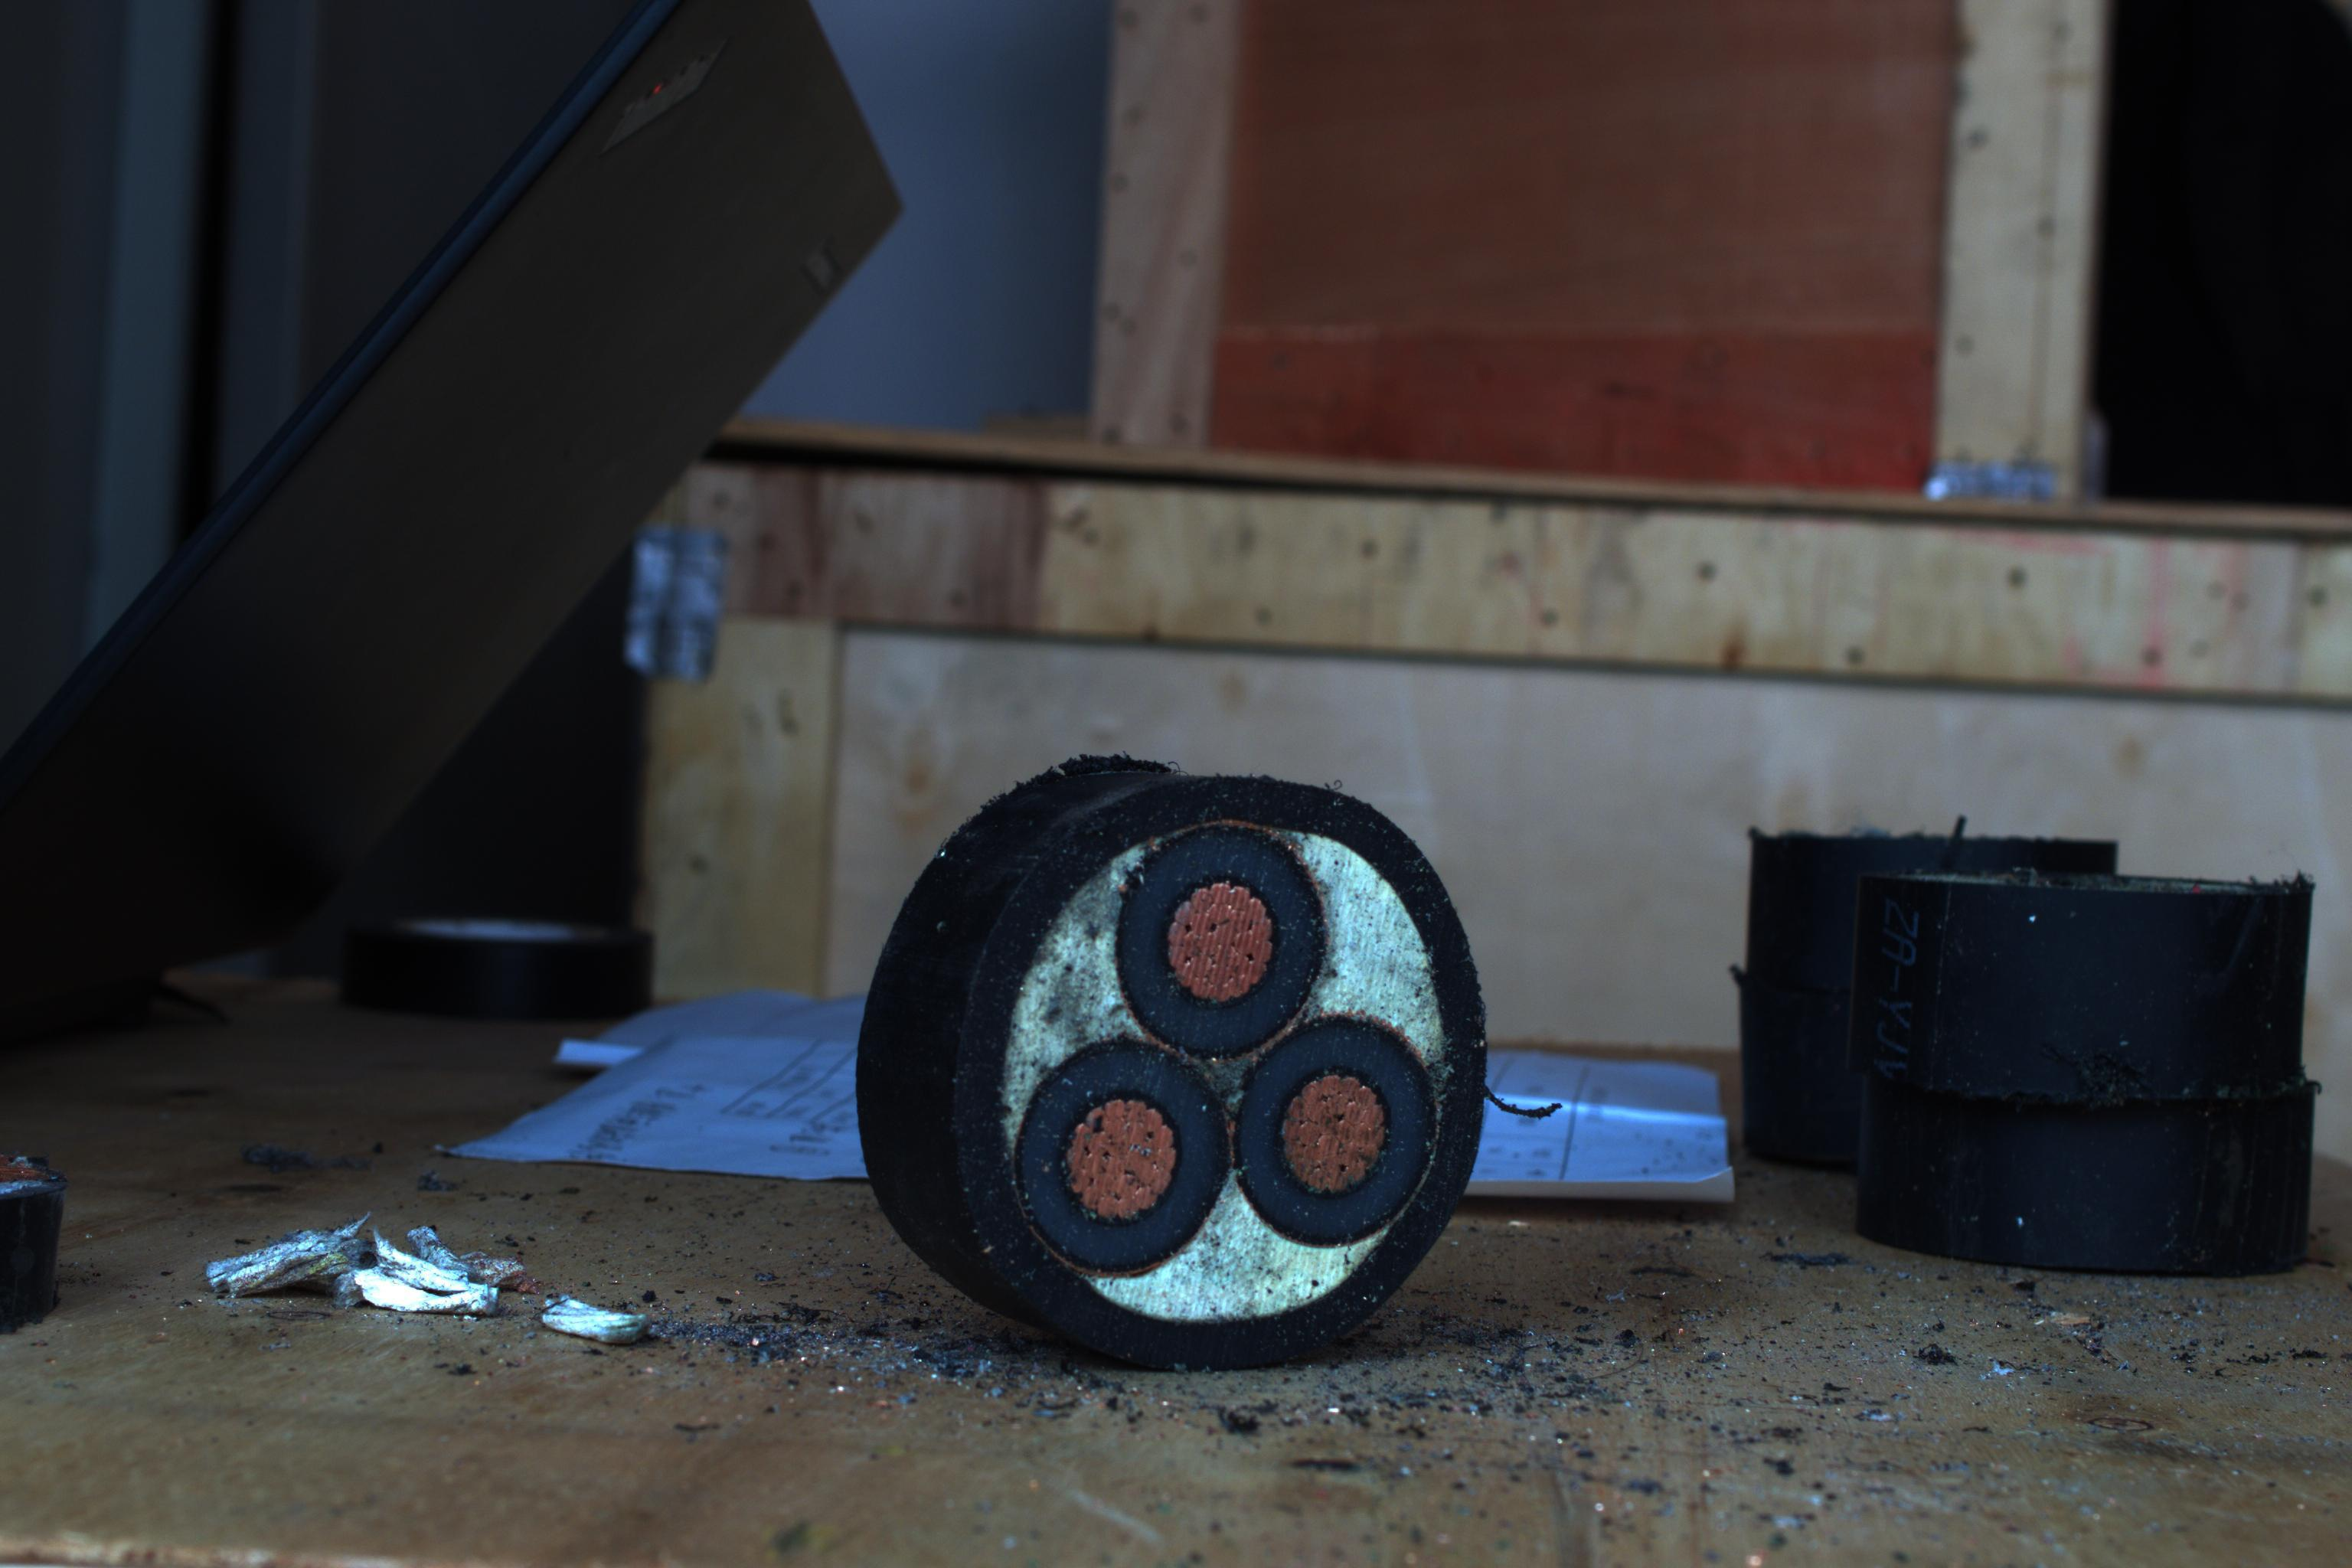ZA_YJV_8.7_10kV_3x120: (924, 766, 1493, 1339)
